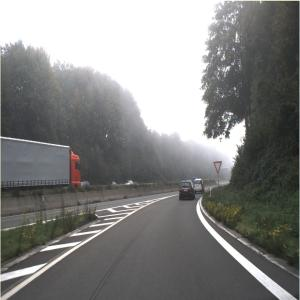give way: (214, 161, 223, 175)
